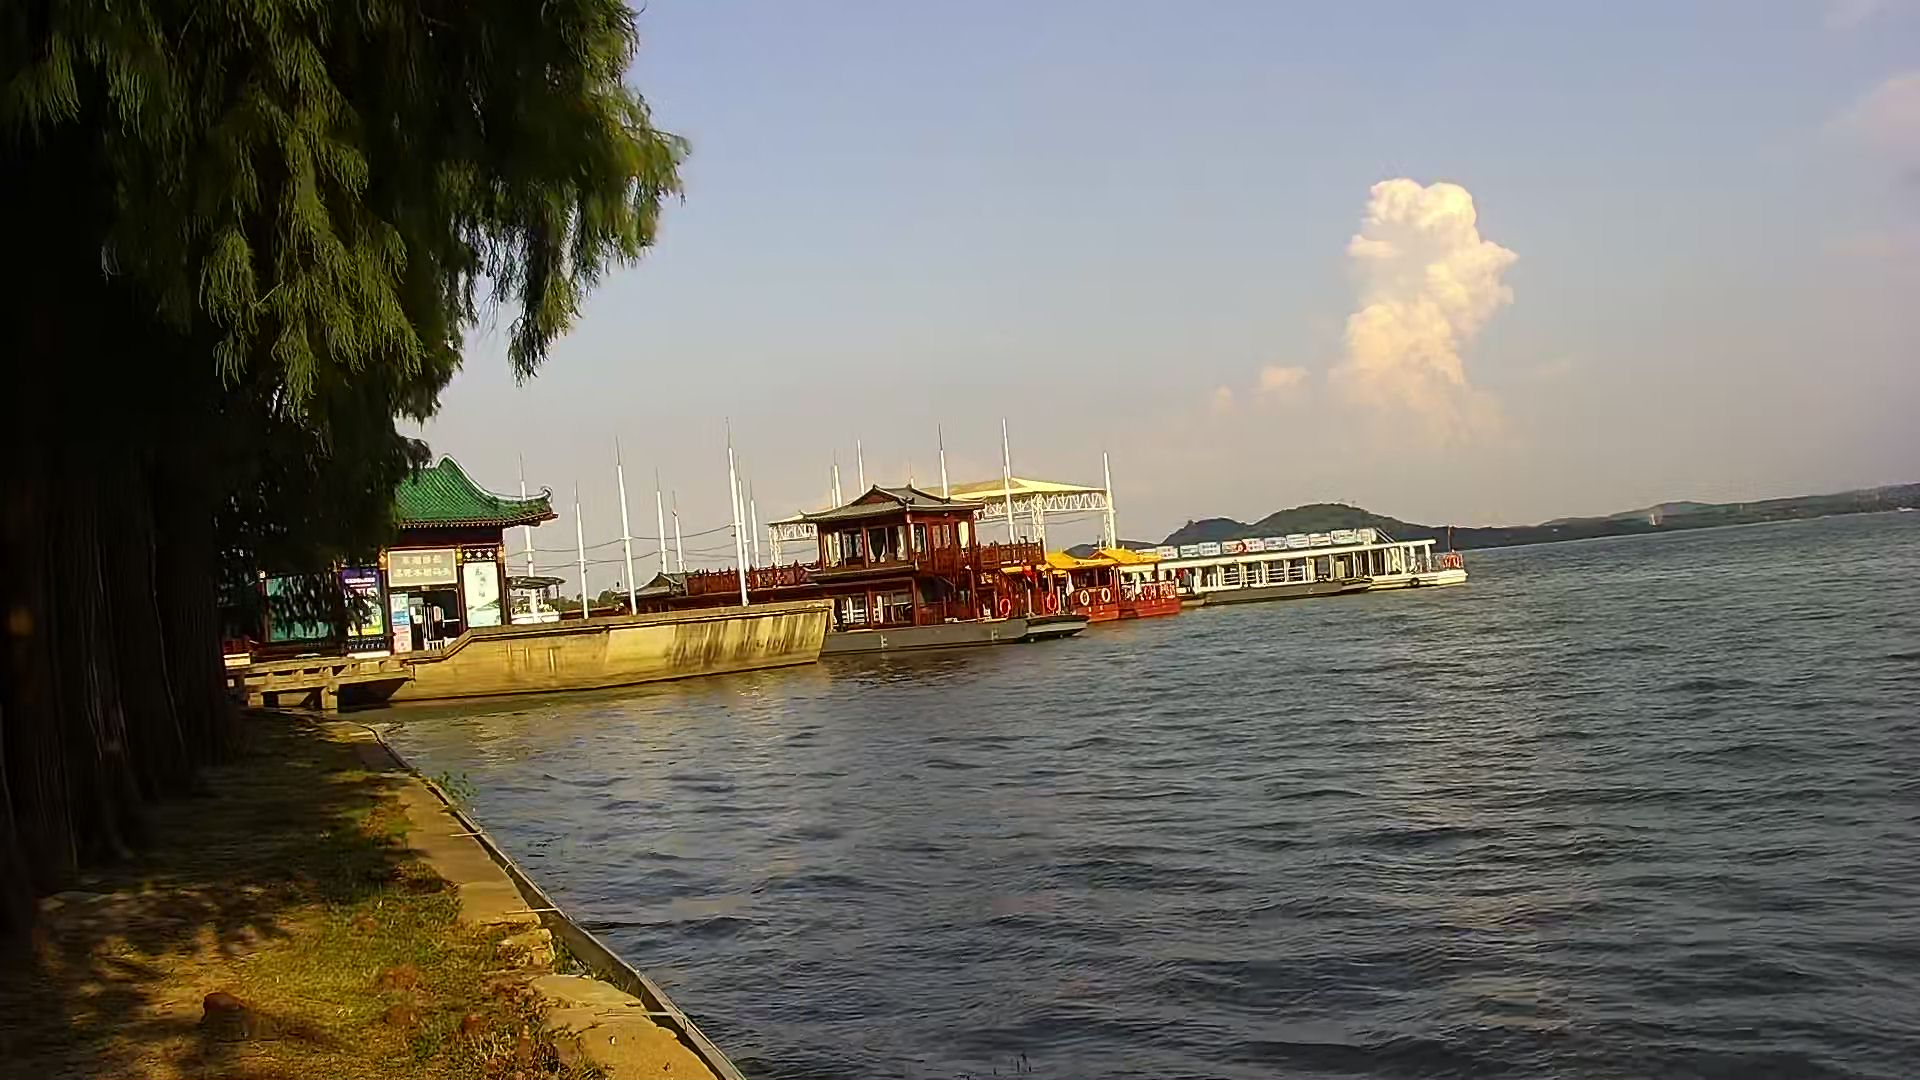boat: (1179, 524, 1462, 589), (1097, 539, 1183, 616), (1055, 545, 1117, 615)
harbor: (353, 603, 839, 708)
ship: (815, 487, 1085, 665)
